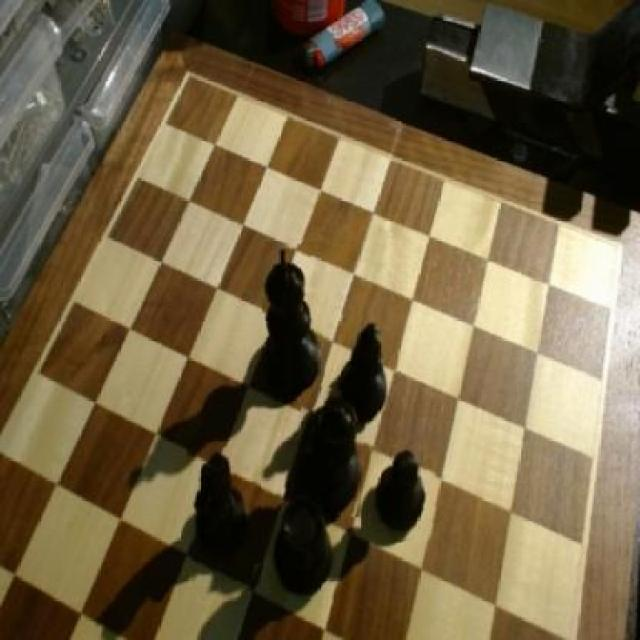bishop: (337, 314, 397, 425)
black-bishop: (261, 243, 324, 393)
black-king: (190, 446, 262, 591)
black-knight: (371, 443, 438, 545)
black-pawn: (296, 388, 366, 516)
black-queen: (276, 489, 338, 599)
